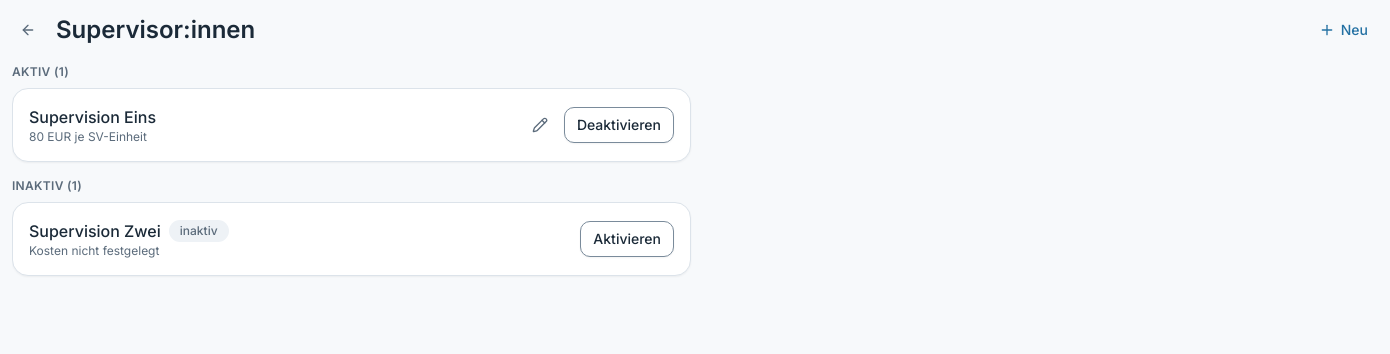
Test: SupervisorsClient › zeigt einen abgelehnten Aufruf beim Aktivieren (Netz weg) an der inaktiven Karte
Click the button "Aktivieren" at (627, 239), box [580,221,674,257]
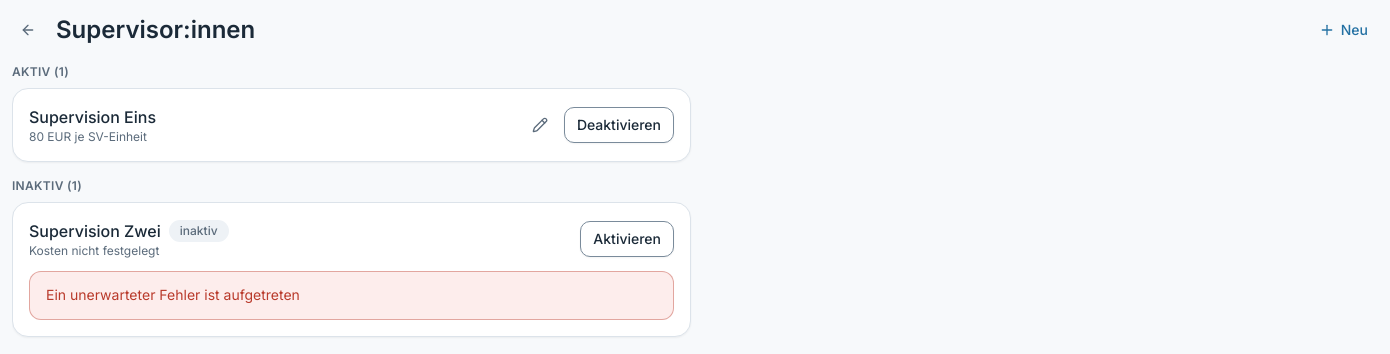
Check: the message reads "Ein unerwarteter Fehler ist aufgetreten", box [46,286,300,303]
